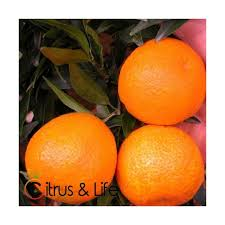orange: (25, 113, 119, 202), (114, 118, 205, 206), (115, 38, 205, 124)
